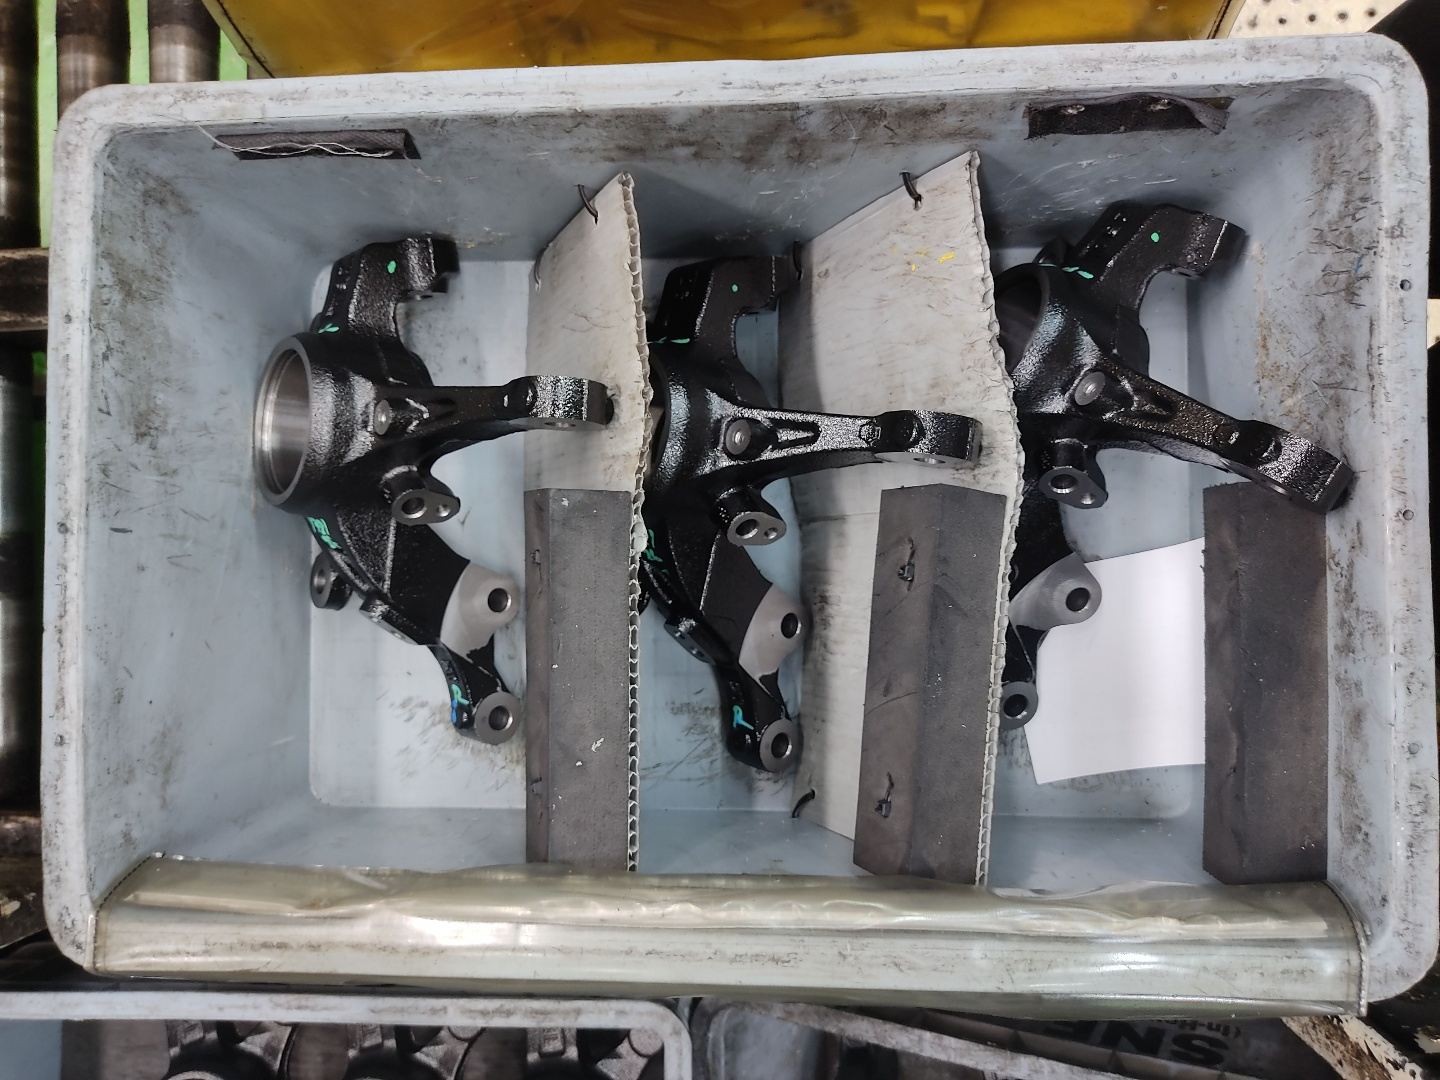abs-rh: (989, 191, 1358, 750), (246, 221, 621, 756), (628, 238, 986, 782)
